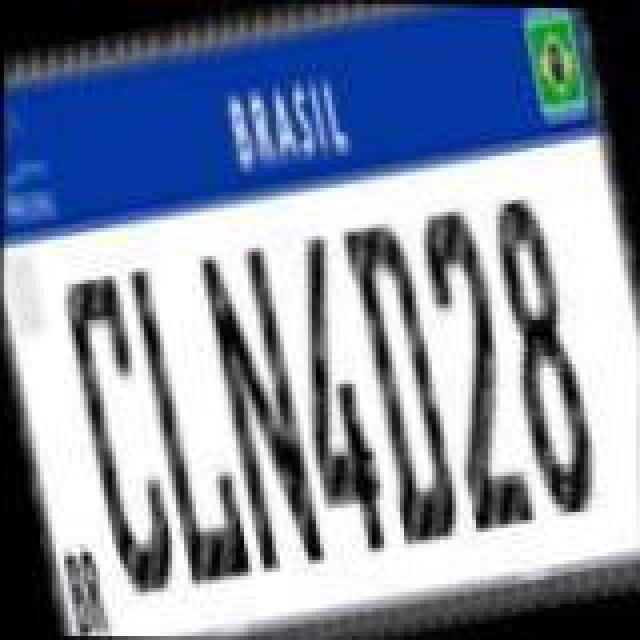2: (408, 196, 540, 532)
4: (262, 226, 394, 562)
8: (472, 180, 612, 524)
C: (54, 264, 186, 600)
D: (334, 216, 466, 552)
L: (124, 254, 260, 594)
N: (190, 238, 330, 578)
